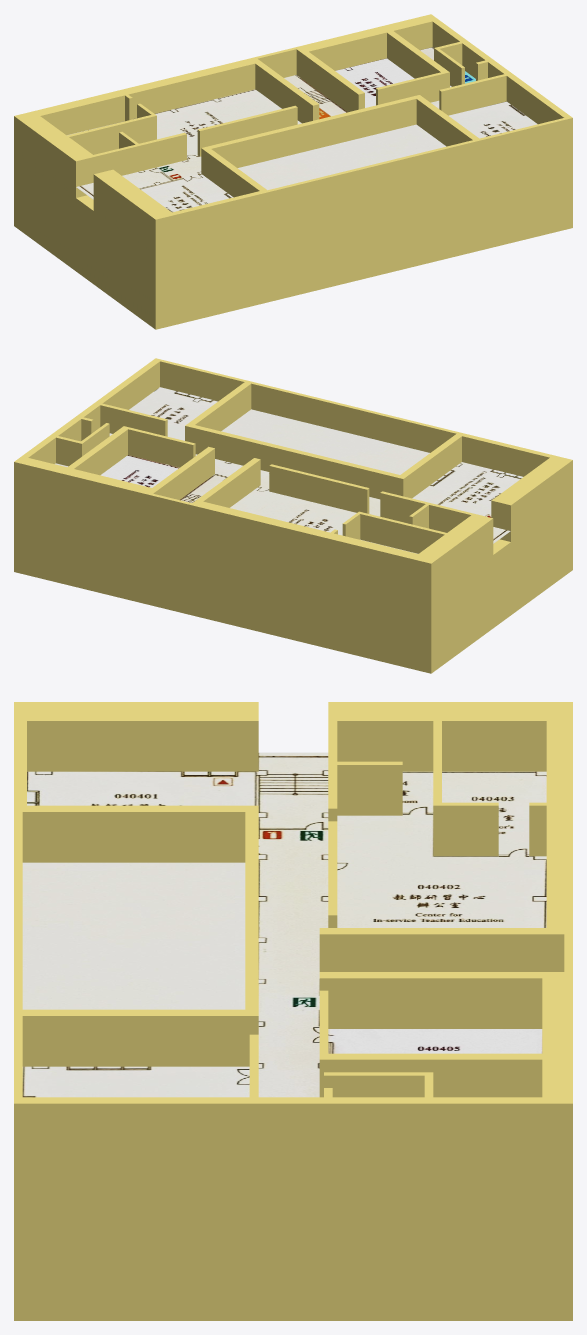
File: Syue-Sih-4F-cube.glb
The picture shows the model from 3 angles, top to bottom: view 1: azimuth 30°, elevation 25°; view 2: azimuth 150°, elevation 25°; view 3: azimuth 270°, elevation 25°; orthographic projection. The views are drawn at different scales.
Visible parts, largest first — view 1: Cube, Plane; view 2: Cube, Plane; view 3: Cube, Plane.
Boxes of the visible parts, x1,y1,x2,y2 form: Cube: (14,14,572,329); Plane: (67,47,537,212); Cube: (14,358,572,673); Plane: (55,387,522,553); Cube: (14,702,572,1320); Plane: (22,752,546,1097).
Size of the model in its own units: 11.9 by 3 by 7.
2 materials, 1 textured.
